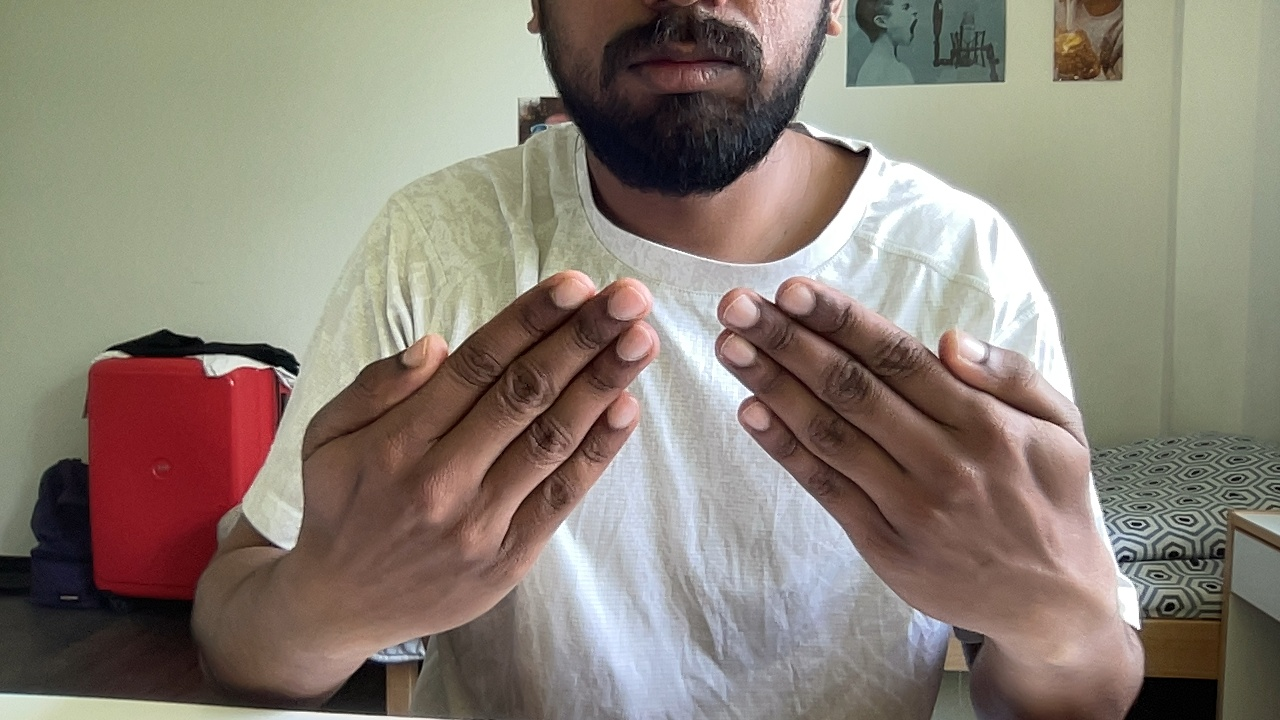ThankYou: (298, 268, 1089, 639)
